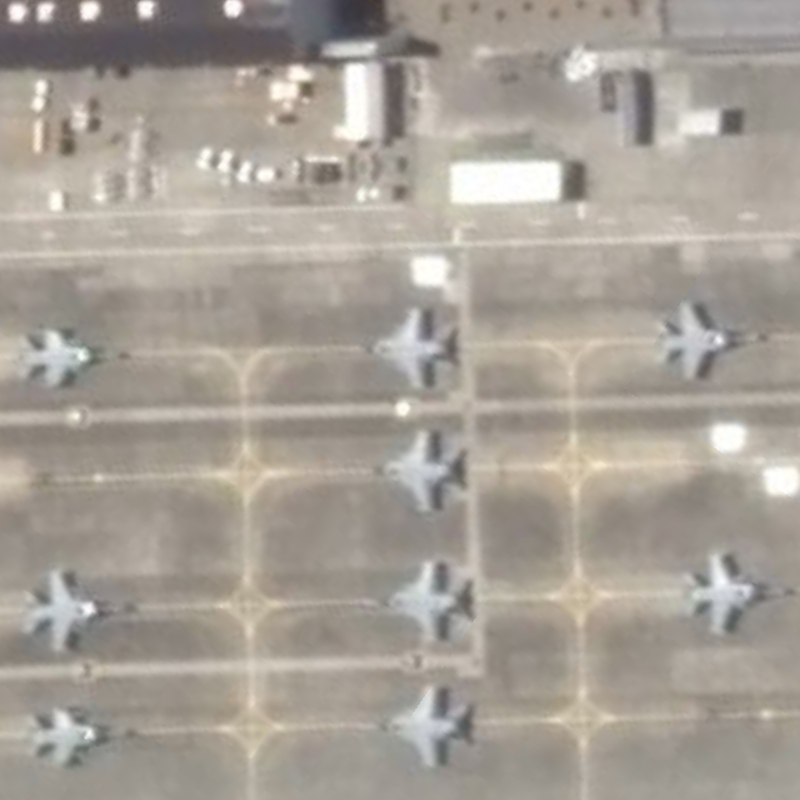A16: (19, 555, 141, 665), (645, 289, 774, 391), (342, 553, 476, 651), (333, 299, 468, 394), (348, 673, 476, 772), (676, 541, 797, 643), (4, 309, 136, 400), (347, 420, 468, 519), (21, 692, 143, 780)
